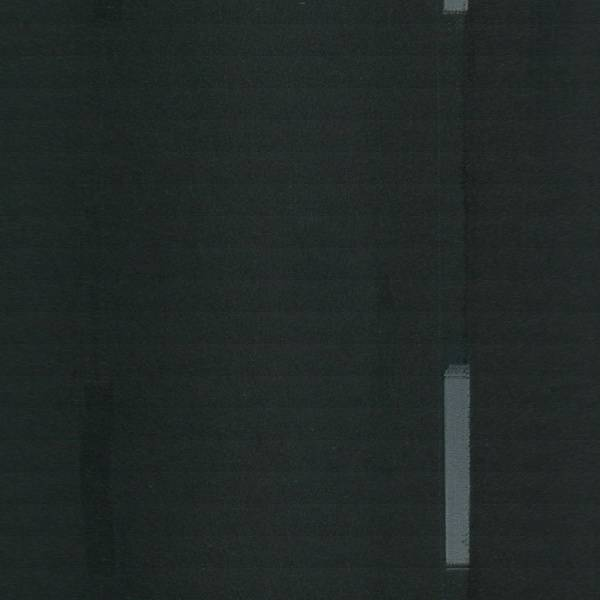road_damage: (451, 29, 488, 358)
